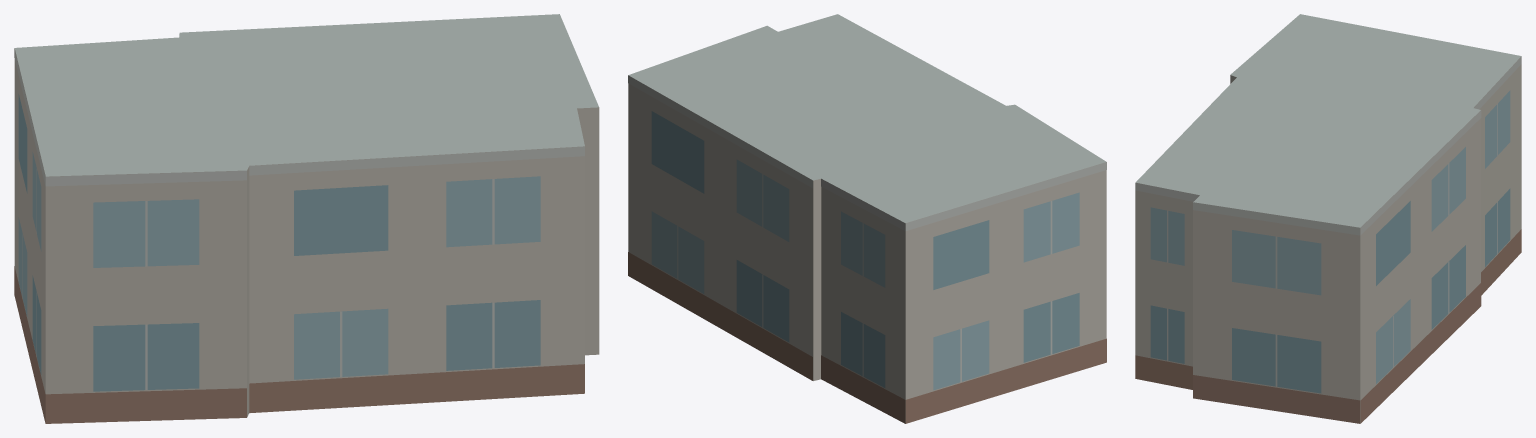
File: survey-upis-32659972.glb
3 renders of one model, left to right at view 1: azimuth 30°, elevation 25°; view 2: azimuth 150°, elevation 25°; view 3: azimuth 270°, elevation 25°, orthographic. The views are drawn at different scales.
Visible parts, largest first — view 1: survey-upis-32659972.tmp; view 2: survey-upis-32659972.tmp; view 3: survey-upis-32659972.tmp.
Part boxes in pixels (<box>): survey-upis-32659972.tmp: <box>14,14,599,423</box>; survey-upis-32659972.tmp: <box>628,14,1106,423</box>; survey-upis-32659972.tmp: <box>1135,14,1521,423</box>.
Bounding box in the file's own units: 14.26 × 6.1 × 10.9.
